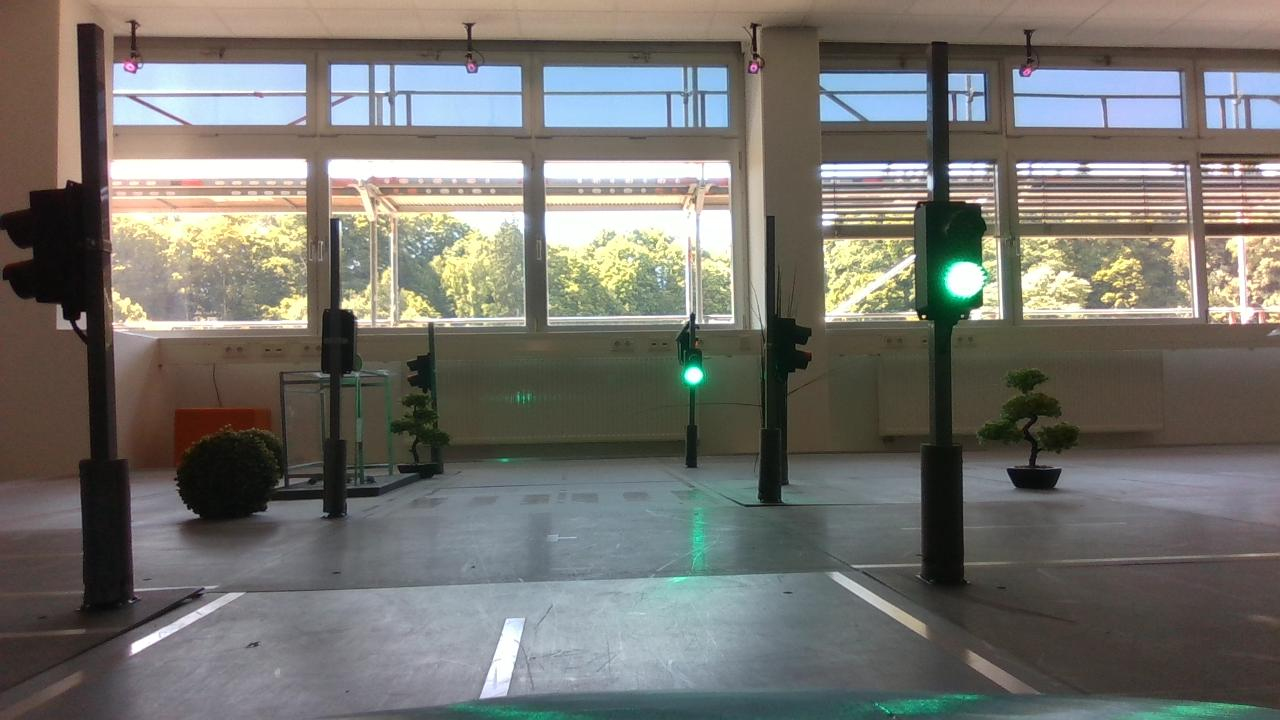traffic_light_green: (891, 187, 1002, 330)
